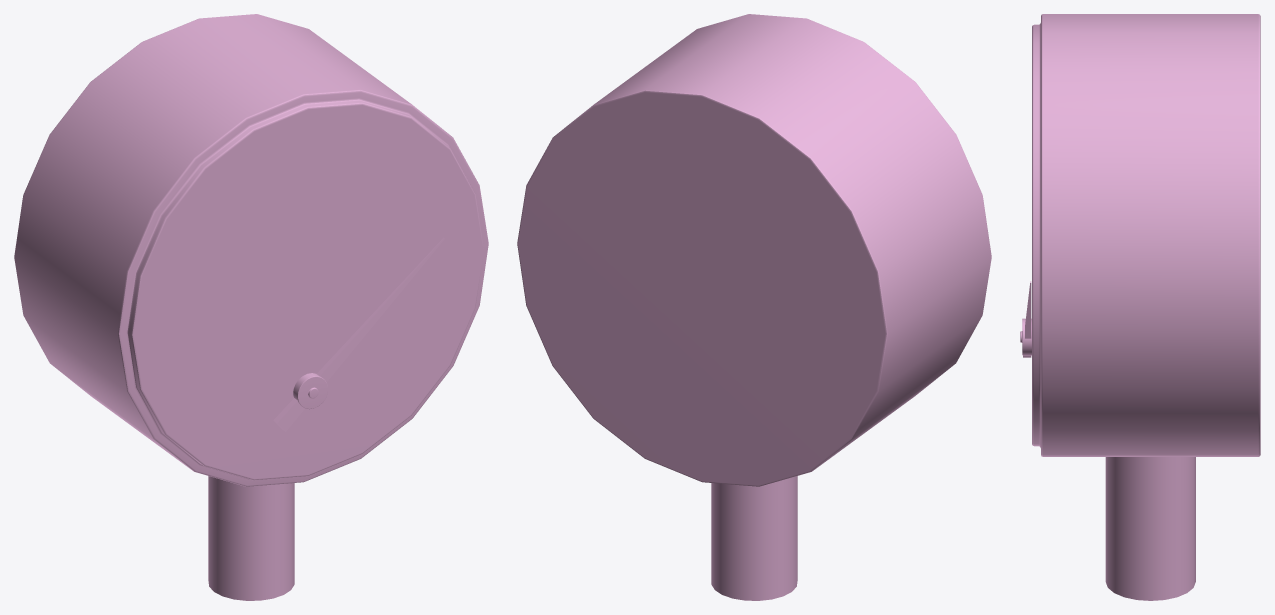
The model's file is Gas_Gauge.fbx.
The picture shows the model from 3 angles, left to right: view 1: azimuth 30°, elevation 25°; view 2: azimuth 150°, elevation 25°; view 3: azimuth 270°, elevation 25°; orthographic projection. The views are drawn at different scales.
Visible parts, largest first — view 1: pressure_gauge, pressure_gauge_base, pressure_gauge_arrow, pressure_guage_arrow_attachment; view 2: pressure_gauge, pressure_gauge_base; view 3: pressure_gauge, pressure_gauge_base.
Boxes of the visible parts, x1,y1,x2,y2 form: pressure_gauge: (14, 14, 488, 486); pressure_gauge_base: (208, 476, 294, 600); pressure_gauge_arrow: (273, 237, 444, 431); pressure_guage_arrow_attachment: (293, 373, 328, 409); pressure_gauge: (517, 14, 991, 486); pressure_gauge_base: (711, 476, 797, 600); pressure_gauge: (1032, 14, 1260, 456); pressure_gauge_base: (1105, 457, 1195, 600).
Size of the model in its own units: 0.1991 by 0.2701 by 0.1072.
